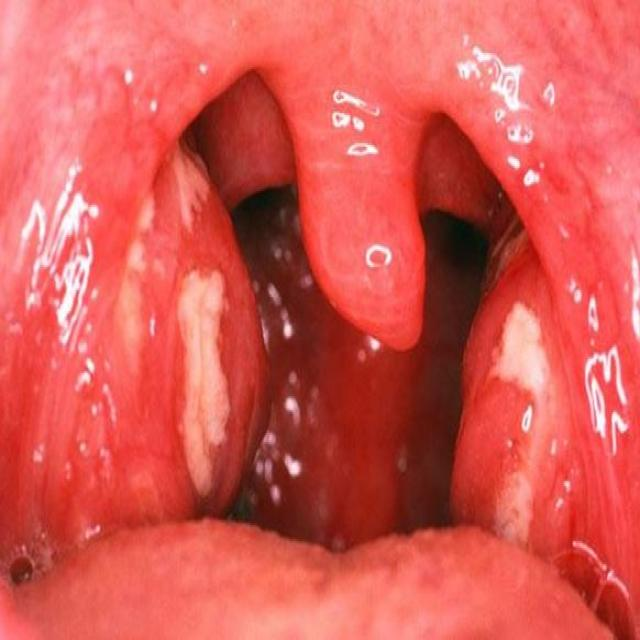pharyngitis: (55, 127, 287, 550), (450, 213, 599, 582)
